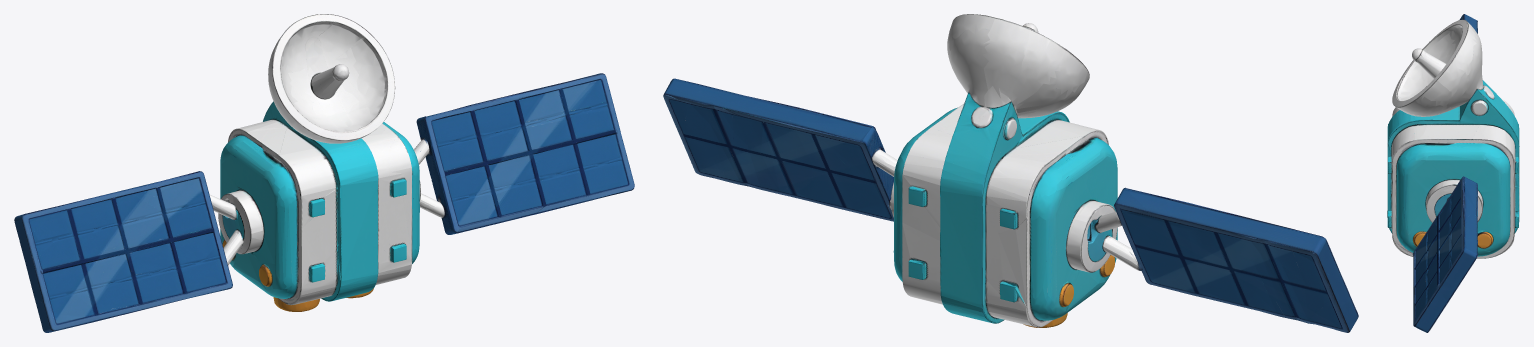
File: satellite-raw.glb
3 renders of one model, left to right at view 1: azimuth 30°, elevation 25°; view 2: azimuth 150°, elevation 25°; view 3: azimuth 270°, elevation 25°, orthographic. The views are drawn at different scales.
Visible parts, largest first — view 1: Mesh_0; view 2: Mesh_0; view 3: Mesh_0.
Boxes of the visible parts, <box> form: Mesh_0: <box>14,14,634,332</box>; Mesh_0: <box>663,14,1358,332</box>; Mesh_0: <box>1387,14,1519,332</box>.
Bounding box in the file's own units: 1.9 × 0.844 × 0.4488.
1 material, 1 textured.
